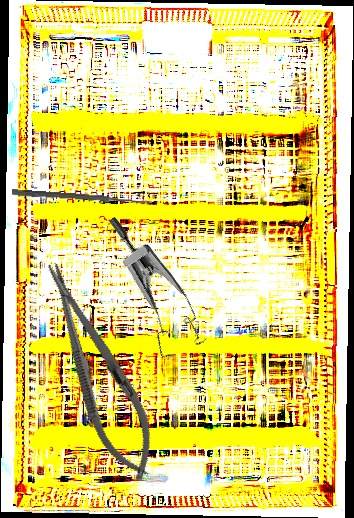Needle Holder: (27, 251, 171, 490)
Speculum: (65, 214, 228, 372)
Surgical Spoon: (11, 189, 153, 206)
